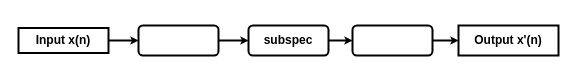
Some shapes in this 576 by 80 pixel diagram are drawn without their labels. The centre of each missing label's shape, as x and y in pixels:
detrend: point 178,40
zcr: point 392,40
